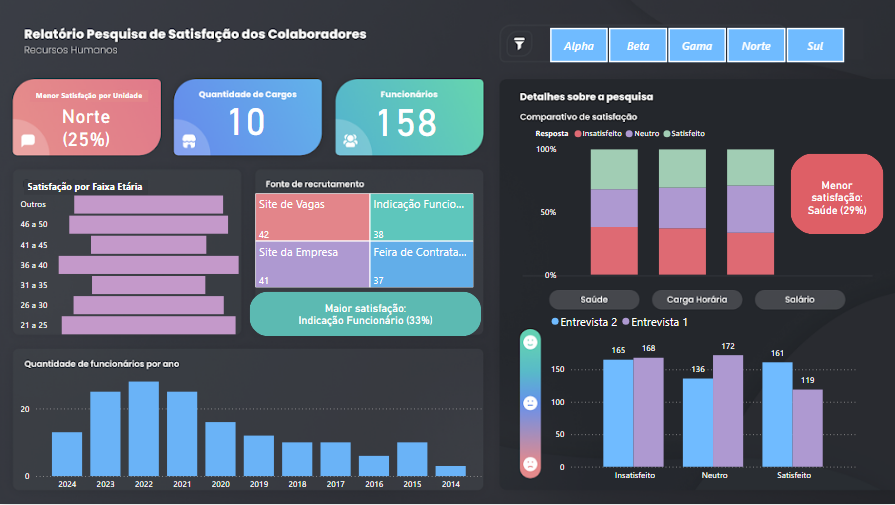

The dashboard page shown, as its layout file describes it:
{"tool":"powerbi","page":{"name":"Análise de Satisfação Interna (RH)","canvas":[1280,720],"ordinal":0},"visuals":[{"type":"cardVisual","fields":{"Data":["Base funcionarios.Qtd Funcionarios"]},"box":[497.9,118.6,164,92.3],"z":0},{"type":"cardVisual","fields":{"Data":["Count(Base funcionarios.Cargo)"]},"box":[301.7,117.2,101.1,96.7],"z":1000},{"type":"clusteredColumnChart","fields":{"Category":["fEntrevistas.Resposta"],"Y":["fEntrevistas.Total Entrevistas"],"Series":["fEntrevistas.Entrevista"]},"box":[782.5,436.8,449.1,259.6],"z":2000},{"type":"hundredPercentStackedColumnChart","fields":{"Category":["fEntrevistas.Assunto"],"Y":["fEntrevistas.Total Entrevistas"],"Series":["fEntrevistas.Resposta"]},"box":[761.7,171,394.7,234.9],"z":3000},{"type":"treemap","fields":{"Group":["Base funcionarios.Fonte de Recrutamento"],"Values":["Base funcionarios.Qtd Funcionarios"]},"box":[361.4,271.4,321.4,144.3],"z":4000},{"type":"columnChart","fields":{"Y":["Base funcionarios.Qtd Funcionarios"],"Category":["Base funcionarios.Ano de Contratacao"]},"box":[26.2,521.2,668.8,188.8],"z":5000},{"type":"funnel","fields":{"Category":["Base funcionarios.Range de Idade"],"Y":["fEntrevistas.% Satisfeitos"]},"box":[26.4,271,326.6,214.1],"z":6000},{"type":"slicer","fields":{"Values":["Base funcionarios.Unidade"]},"box":[761.4,32.9,470,62.9],"z":7000},{"type":"cardVisual","fields":{"Data":["Base funcionarios.Insight_Melhor_Fonte"]},"box":[352.9,391.4,341.4,114.3],"z":8000},{"type":"cardVisual","fields":{"Data":["fEntrevistas.Insight_Pior_Tema"]},"box":[1126.2,194.8,143.5,165.5],"z":9000},{"type":"textbox","title":"Menor Satisfação por Unidade","box":[44.4,128.1,168.8,16.9],"z":10000},{"type":"cardVisual","fields":{"Data":["fEntrevistas.Insight_Pior_Regiao"]},"box":[46.2,116.9,158.5,121.5],"z":11000},{"type":"textbox","title":"Satisfação por Faixa Etária","box":[36.2,256.5,176.8,21],"z":12000}]}

Visuals, with their boxes in screenshot pixels (x1, y1, x2, y2), scaled from the page's 1280x720 canvas onto the 895x505 screenshot:
cardVisual - Base funcionarios.Qtd Funcionarios: 348/83/463/148
cardVisual - Count(Base funcionarios.Cargo): 211/82/282/150
clusteredColumnChart - fEntrevistas.Resposta x fEntrevistas.Total Entrevistas: 547/306/861/488
hundredPercentStackedColumnChart - fEntrevistas.Assunto x fEntrevistas.Total Entrevistas: 533/120/809/285
treemap - Base funcionarios.Fonte de Recrutamento x Base funcionarios.Qtd Funcionarios: 253/190/477/292
columnChart - Base funcionarios.Qtd Funcionarios x Base funcionarios.Ano de Contratacao: 18/366/486/498
funnel - Base funcionarios.Range de Idade x fEntrevistas.% Satisfeitos: 18/190/247/340
slicer - Base funcionarios.Unidade: 532/23/861/67
cardVisual - Base funcionarios.Insight_Melhor_Fonte: 247/275/485/355
cardVisual - fEntrevistas.Insight_Pior_Tema: 787/137/888/253
"Menor Satisfação por Unidade" textbox: 31/90/149/102
cardVisual - fEntrevistas.Insight_Pior_Regiao: 32/82/143/167
"Satisfação por Faixa Etária" textbox: 25/180/149/195
